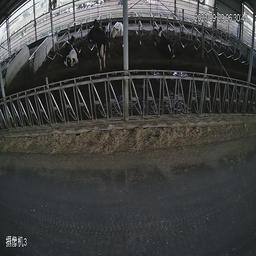cow: (83, 24, 107, 71), (155, 24, 177, 60), (64, 33, 78, 69), (110, 18, 123, 43)
